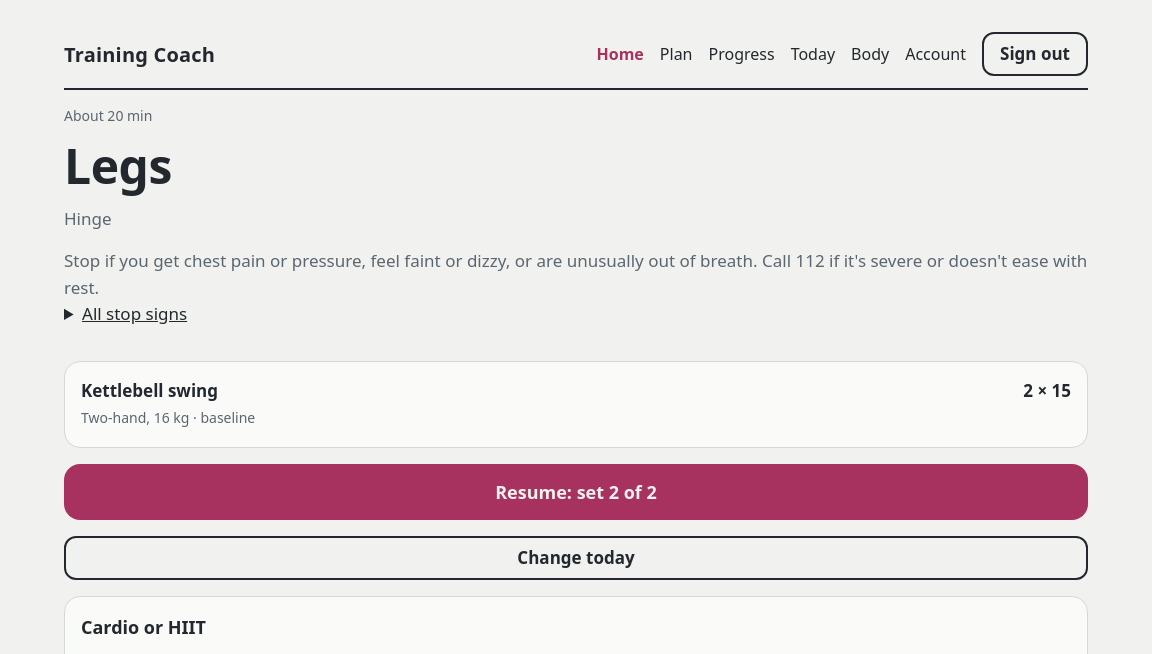
Test: a reload keeps a level chosen for today
Click the button "Resume: set 2 of 2" at (576, 492), box x1=64 y1=464 x2=1088 y2=520
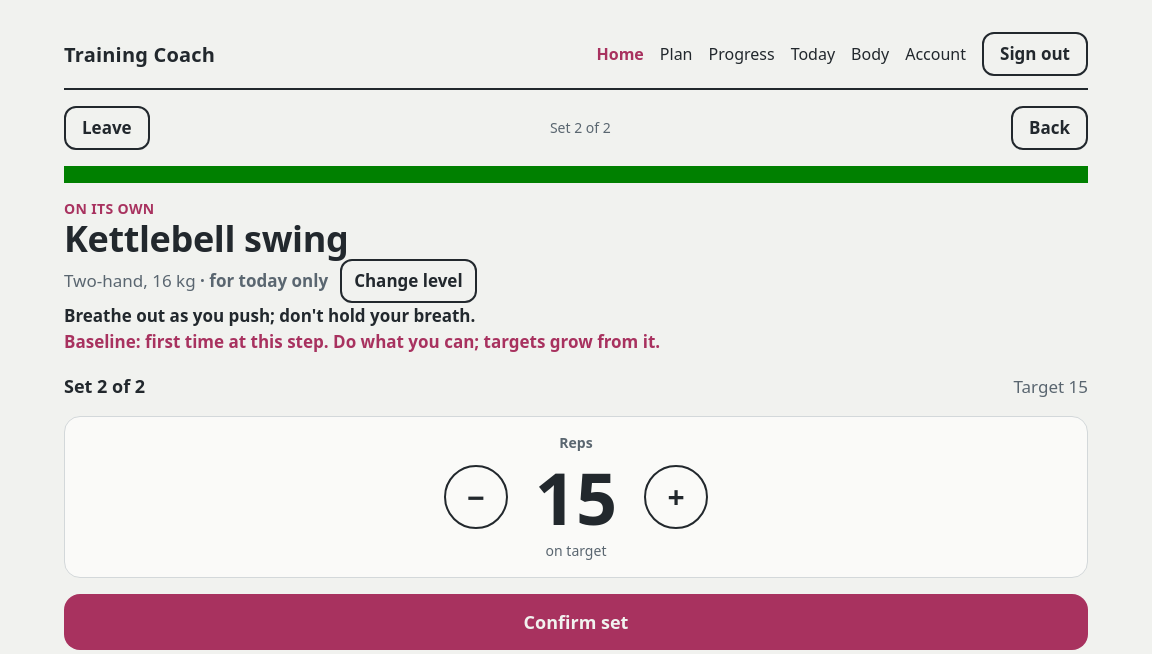
Result: the text "· for today only" is shown at x1=196 y1=269 x2=328 y2=292
Result: the text "Set 2 of 2" is shown 2 times at x1=550 y1=118 x2=611 y2=138; x1=64 y1=372 x2=145 y2=400
Click the button "Change level" at (408, 281), box x1=340 y1=259 x2=477 y2=303
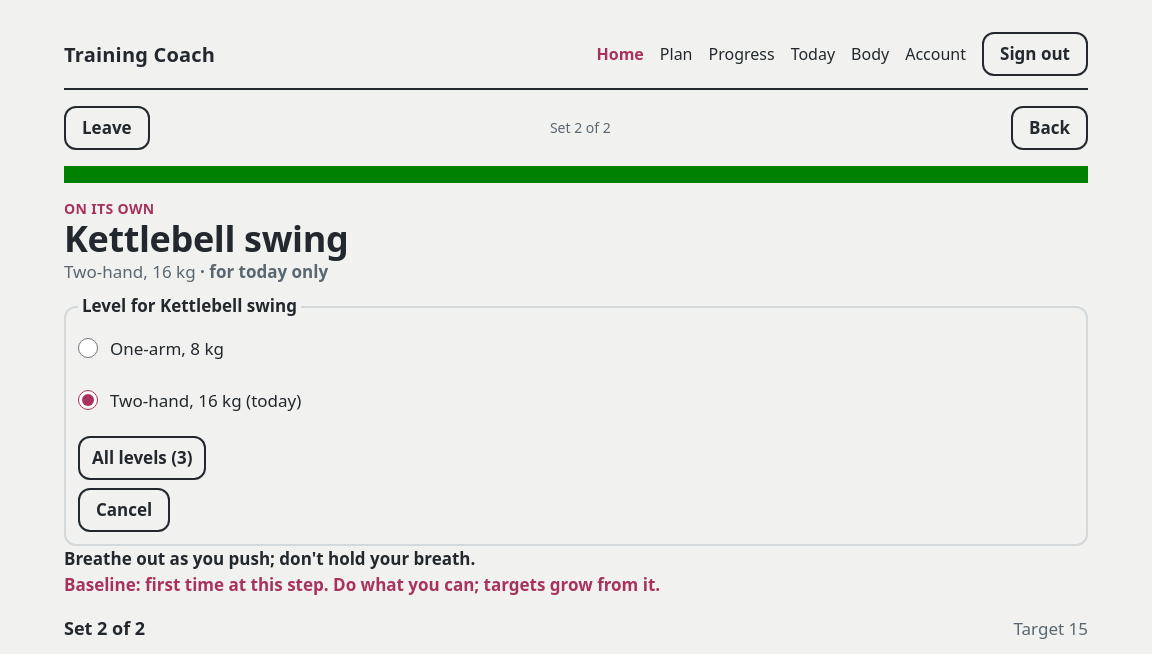
Click the radio button labelled "One-arm, 8 kg" at (88, 348), box x1=78 y1=338 x2=98 y2=358
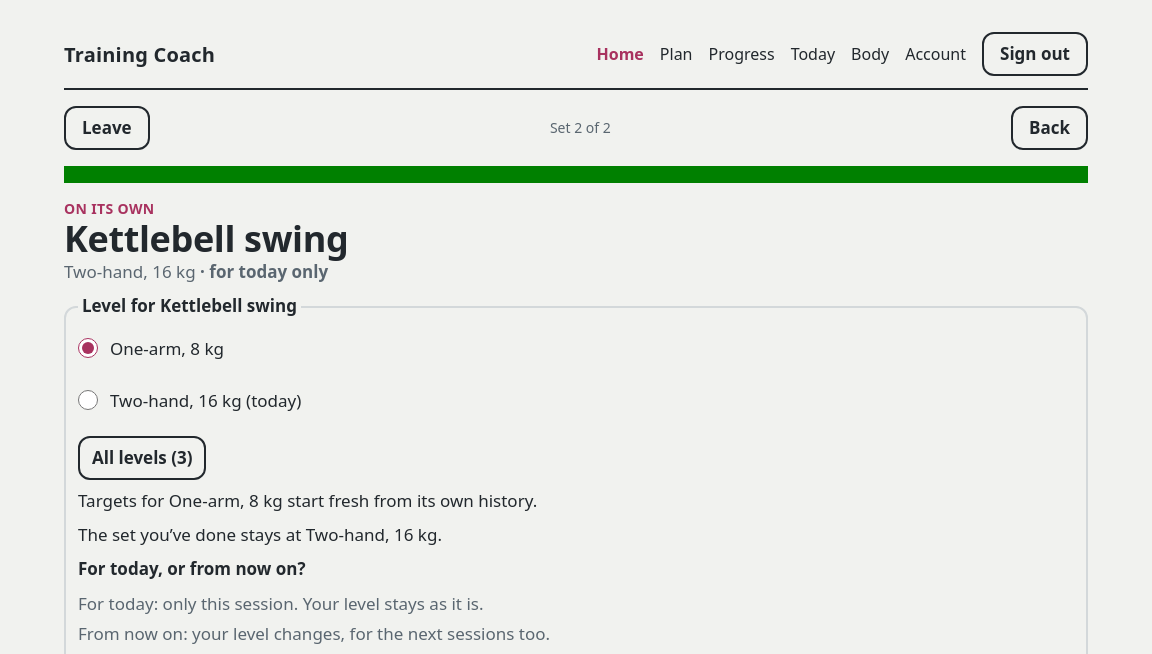
Result: the text "The set you’ve done stays at Two-hand, 16 kg." is shown at x1=78 y1=523 x2=442 y2=546
